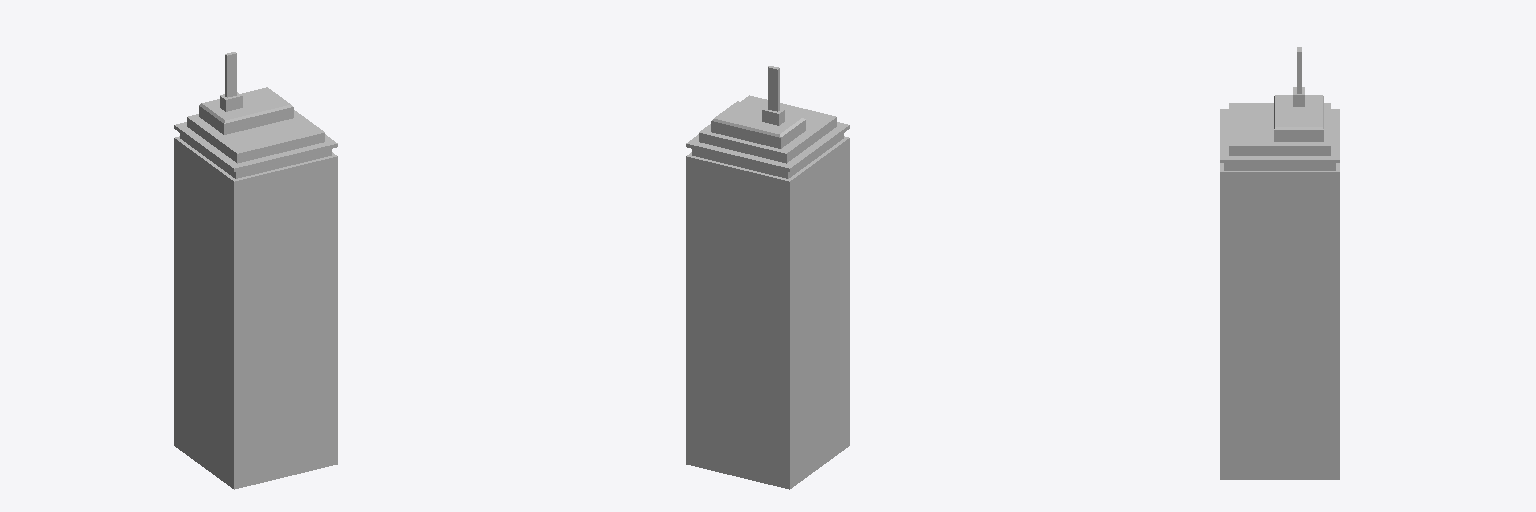
3 renders of one model, left to right at view 1: azimuth 30°, elevation 25°; view 2: azimuth 150°, elevation 25°; view 3: azimuth 270°, elevation 25°, orthographic.
Parts seen in each view (by area): view 1: Highrise_1; view 2: Highrise_1; view 3: Highrise_1.
Boxes of the visible parts, box(x1,y1,x2,y2) form: Highrise_1: box(174, 52, 337, 489); Highrise_1: box(686, 66, 849, 489); Highrise_1: box(1220, 47, 1339, 479).
Bounding box in the file's own units: 136 × 501 × 136.